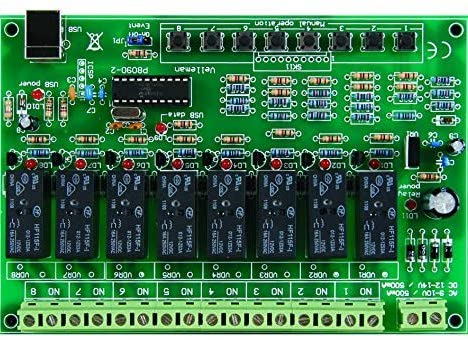Capacitor: (420, 185, 461, 220), (17, 114, 41, 132), (446, 136, 466, 157)
Diode: (430, 241, 440, 261), (443, 242, 453, 260), (438, 115, 456, 125), (418, 242, 427, 260), (407, 243, 415, 261), (18, 95, 25, 109)
LED: (404, 197, 418, 211), (368, 157, 381, 170), (24, 158, 38, 170), (318, 158, 332, 170), (30, 88, 43, 100), (122, 158, 135, 170), (270, 158, 283, 170), (74, 157, 86, 169), (220, 158, 232, 170), (172, 159, 183, 169)
Resistor: (350, 111, 375, 123), (371, 133, 396, 145), (125, 49, 152, 60), (429, 88, 455, 99), (176, 147, 199, 158), (74, 149, 99, 159), (269, 148, 294, 158), (350, 71, 375, 81), (351, 101, 376, 111), (394, 92, 419, 102), (393, 111, 415, 122), (416, 172, 438, 183), (268, 76, 292, 86), (307, 76, 331, 86), (352, 92, 376, 102), (432, 101, 456, 111), (225, 74, 251, 83), (395, 71, 421, 80), (3, 98, 14, 119), (308, 98, 331, 108), (319, 134, 342, 144), (371, 148, 394, 158), (395, 82, 418, 92), (428, 75, 453, 84), (123, 148, 147, 157), (227, 96, 251, 105), (225, 85, 249, 94), (307, 111, 331, 120), (75, 135, 98, 144), (173, 120, 196, 129), (268, 97, 291, 106), (268, 112, 291, 121), (272, 129, 295, 138), (226, 105, 251, 113), (318, 149, 343, 157), (28, 148, 50, 157), (174, 135, 196, 144), (222, 135, 244, 144), (309, 88, 331, 97), (26, 135, 50, 143), (124, 136, 148, 144), (45, 98, 54, 119), (352, 83, 375, 91), (59, 98, 68, 118), (221, 150, 243, 158), (268, 89, 292, 96)
